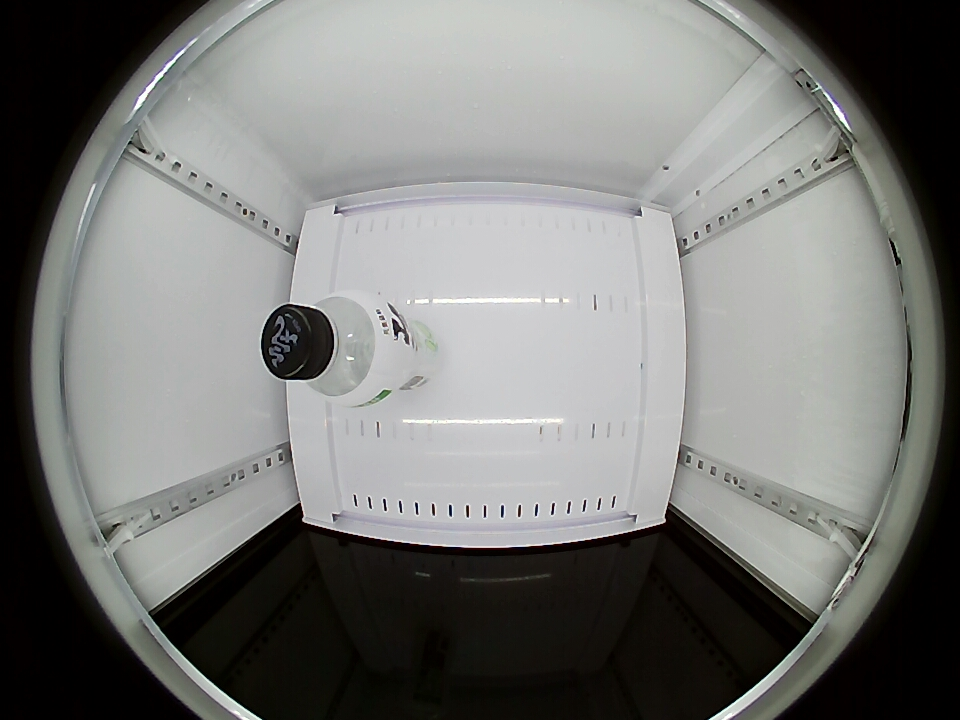yuanqishui: (262, 292, 399, 406)
